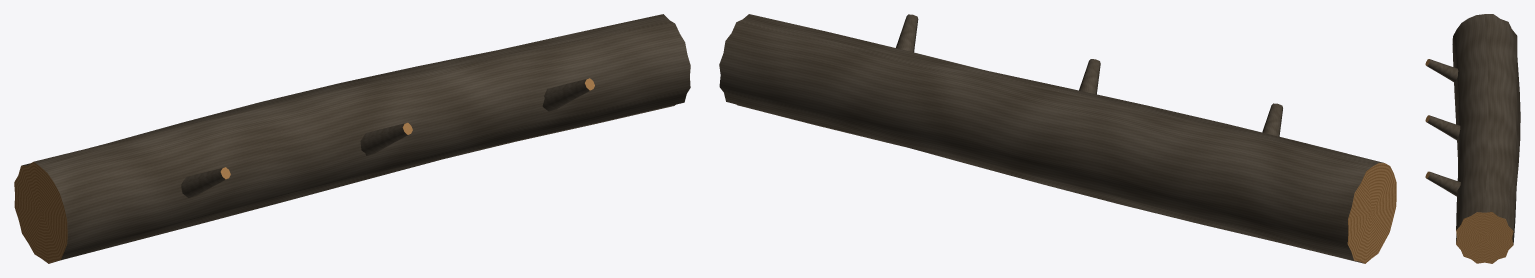
Rendered from SS_Log_Fresh_01_LOD0.fbx.
3 renders of one model, left to right at view 1: azimuth 30°, elevation 25°; view 2: azimuth 150°, elevation 25°; view 3: azimuth 270°, elevation 25°, orthographic. The views are drawn at different scales.
Parts seen in each view (by area): view 1: SS_Log_Fresh_01_LOD0_Mesh; view 2: SS_Log_Fresh_01_LOD0_Mesh; view 3: SS_Log_Fresh_01_LOD0_Mesh.
Boxes of the visible parts, x1,y1,x2,y2 form: SS_Log_Fresh_01_LOD0_Mesh: (14, 14, 690, 263); SS_Log_Fresh_01_LOD0_Mesh: (719, 14, 1396, 263); SS_Log_Fresh_01_LOD0_Mesh: (1425, 14, 1520, 263).
Size of the model in its own units: 311 by 44.88 by 64.29.
